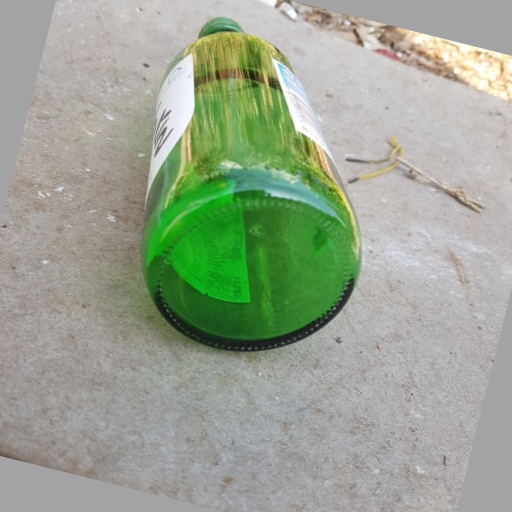Glass_0: (138, 12, 359, 352)
